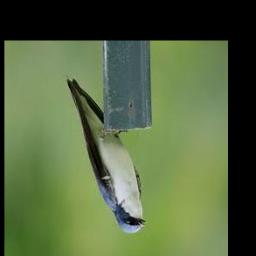Swallow: (66, 78, 148, 233)
